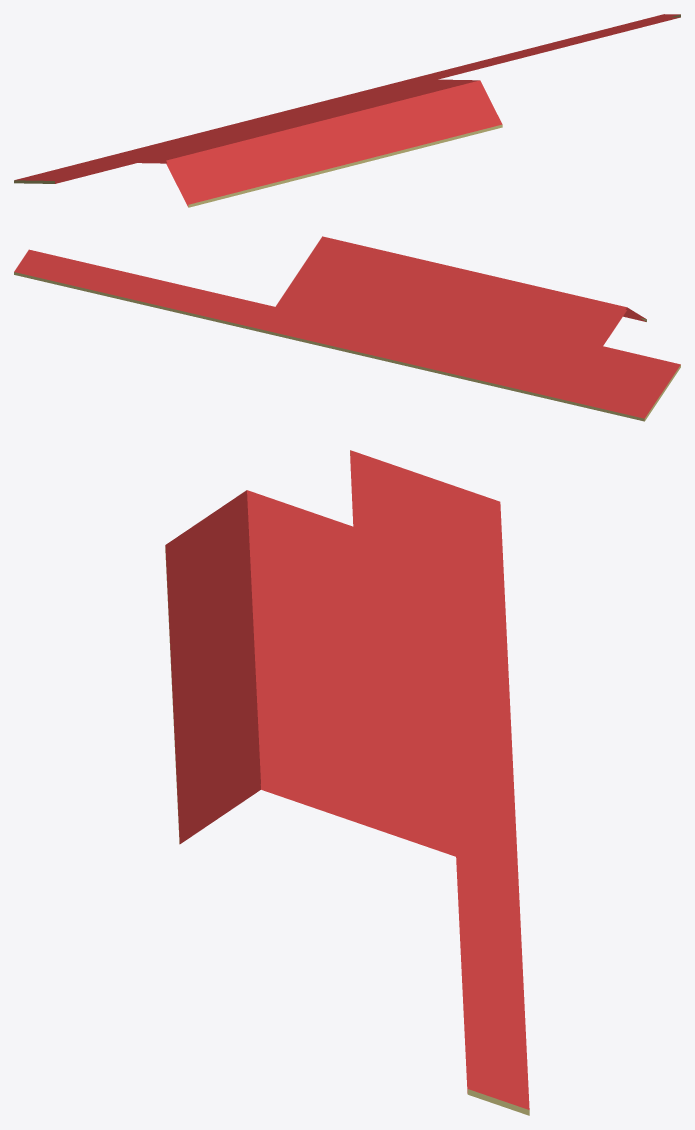
3 views of the same model, one above another, from view 1: azimuth 30°, elevation 25°; view 2: azimuth 150°, elevation 25°; view 3: azimuth 270°, elevation 25° (orthographic). The views are drawn at different scales.
Bounding box in the file's own units: 22.76 × 5.75 × 1.68.
